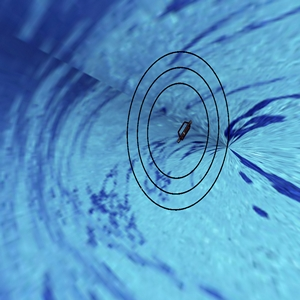circle: (113, 36, 239, 218)
submarine: (172, 112, 194, 148)
